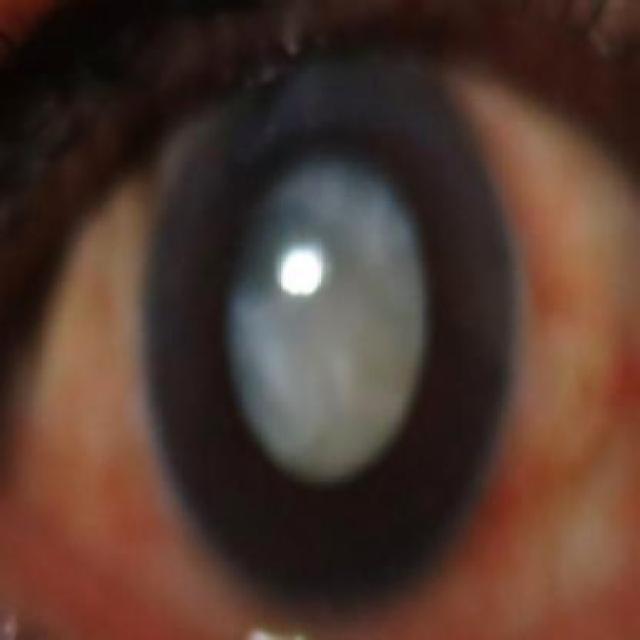Cataract: (137, 62, 518, 616)
